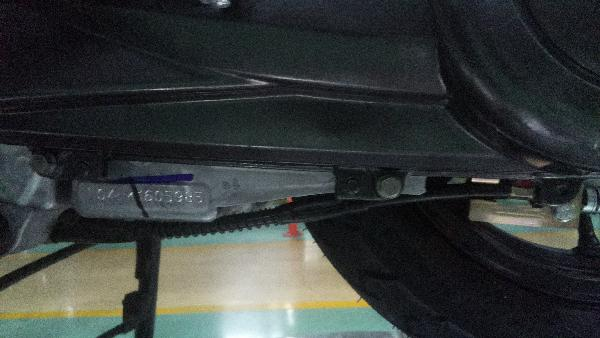box: (96, 187, 204, 205)
